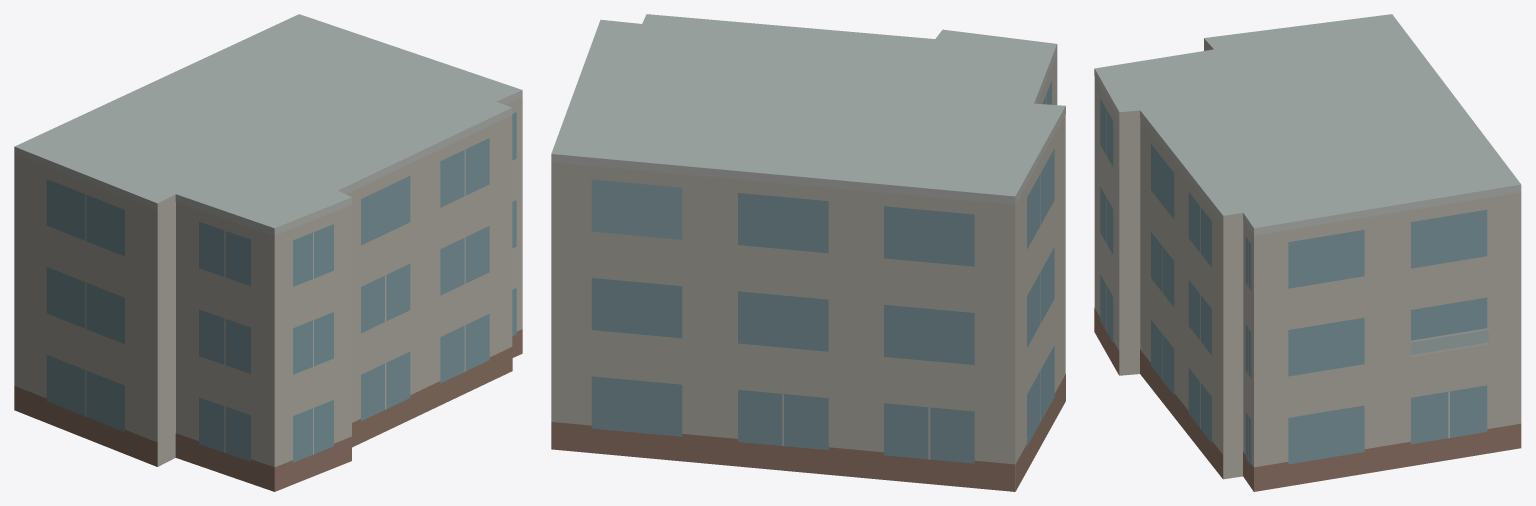
The model's file is survey-upis-32643816.glb.
3 views of the same model, side by side, from view 1: azimuth 30°, elevation 25°; view 2: azimuth 150°, elevation 25°; view 3: azimuth 270°, elevation 25° (orthographic). The views are drawn at different scales.
Parts seen in each view (by area): view 1: survey-upis-32643816.tmp; view 2: survey-upis-32643816.tmp; view 3: survey-upis-32643816.tmp.
Boxes of the visible parts, box(x1,y1,x2,y2) form: survey-upis-32643816.tmp: box(14, 14, 522, 491); survey-upis-32643816.tmp: box(551, 14, 1065, 491); survey-upis-32643816.tmp: box(1094, 14, 1521, 491).
Size of the model in its own units: 15.18 by 8.7 by 12.78.
